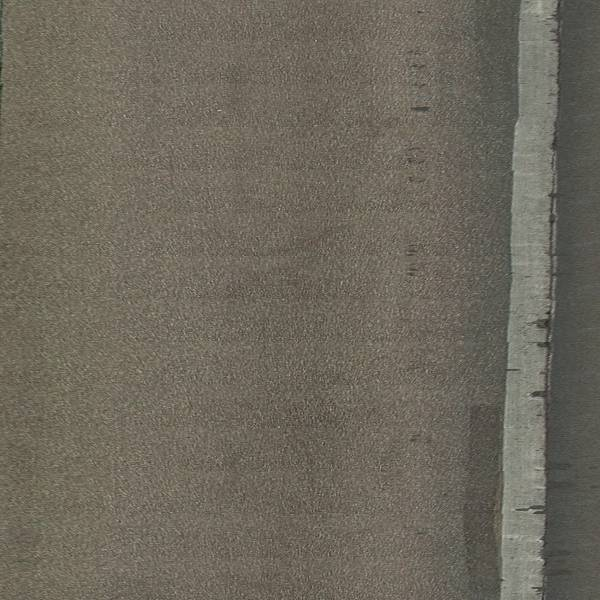road_damage: (531, 183, 557, 485), (403, 52, 434, 299)
